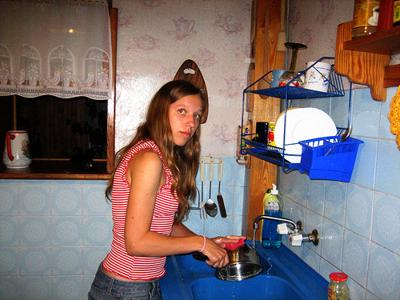person: (86, 79, 231, 300)
